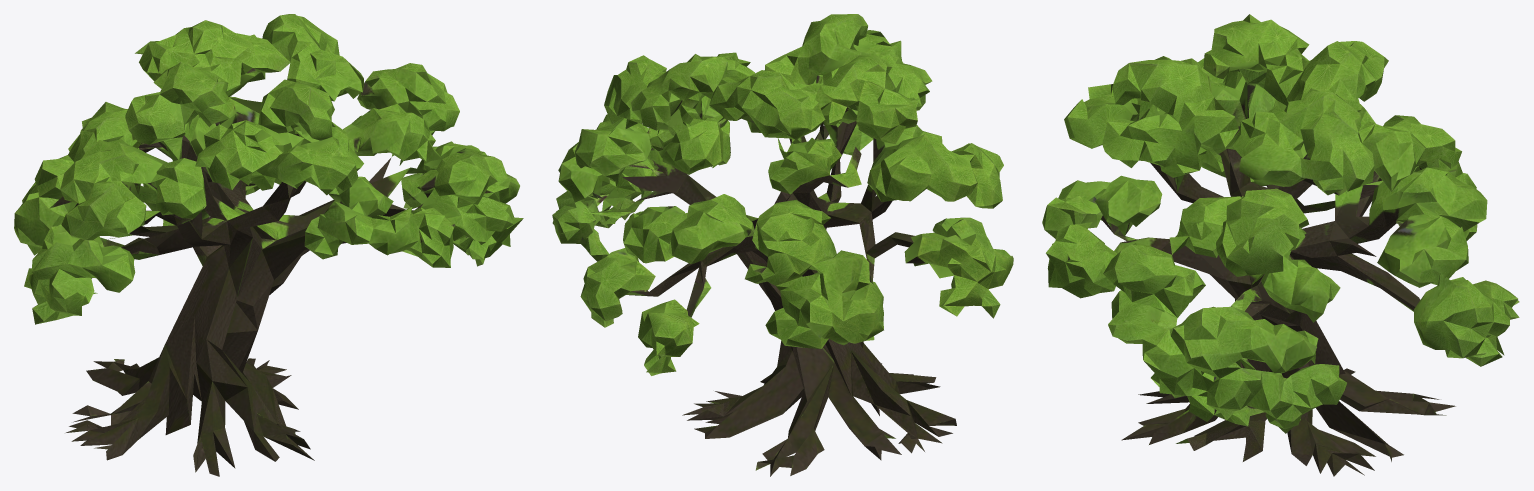
Rendered from oak.glb.
The picture shows the model from 3 angles, left to right: view 1: azimuth 30°, elevation 25°; view 2: azimuth 150°, elevation 25°; view 3: azimuth 270°, elevation 25°; orthographic projection. The views are drawn at different scales.
Size of the model in its own units: 1.85 by 1.42 by 1.58.
Materials: 1 (1 with a texture image).
